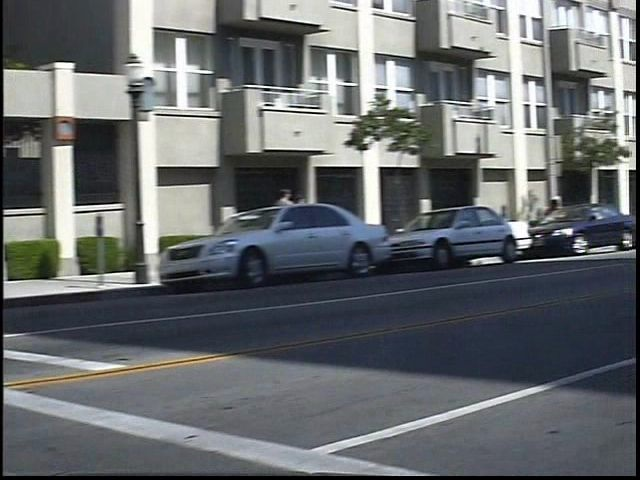person: (287, 183, 310, 263), (306, 190, 325, 253)
